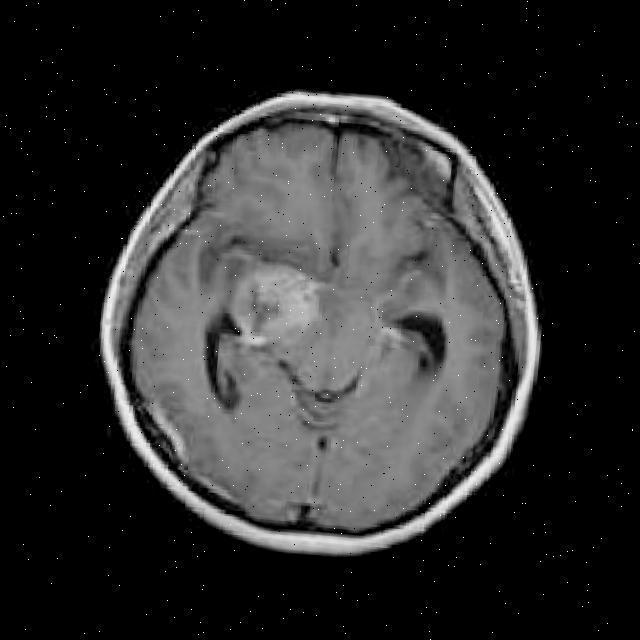MCI: (217, 220, 348, 399)
